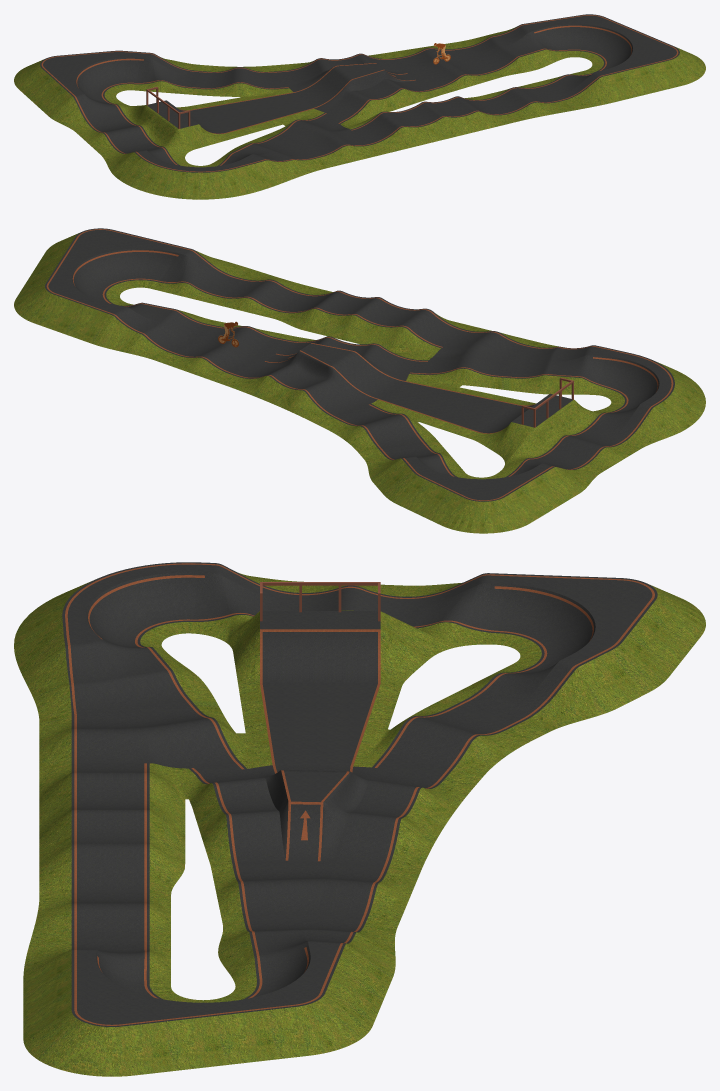
File: pumptrack_2.glb
3 views of the same model, one above another, from view 1: azimuth 30°, elevation 25°; view 2: azimuth 150°, elevation 25°; view 3: azimuth 270°, elevation 25° (orthographic). The views are drawn at different scales.
Parts seen in each view (by area): view 1: root; view 2: root; view 3: root.
Part boxes in pixels (left/top/right/bottom): root: left=14, top=14, right=705, bottom=199; root: left=14, top=228, right=705, bottom=533; root: left=14, top=562, right=705, bottom=1076.
Bounding box in the file's own units: 44.56 × 2.5 × 25.77.
Materials: 5 (4 with a texture image).
